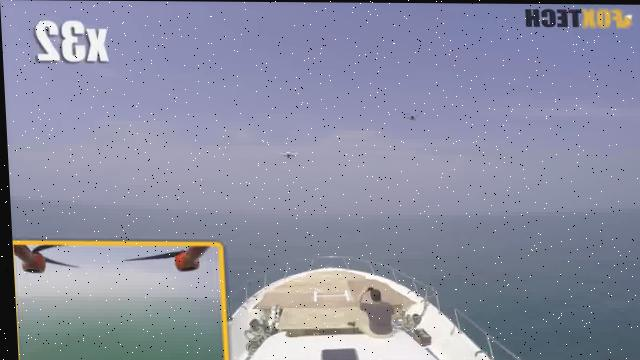drone: (273, 145, 303, 163), (401, 108, 420, 129)
